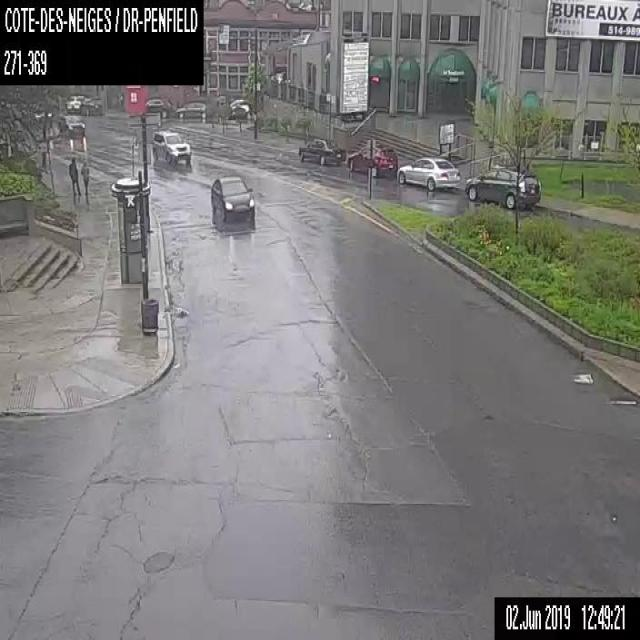pedestrian: (68, 156, 80, 197), (80, 159, 89, 195)
vehicle: (464, 164, 540, 208), (396, 155, 459, 191), (210, 174, 254, 222), (347, 144, 398, 176), (152, 128, 191, 165), (298, 136, 346, 166), (58, 112, 84, 136), (144, 96, 172, 117), (175, 100, 205, 119), (228, 97, 252, 119), (79, 96, 102, 115), (64, 94, 84, 112)
